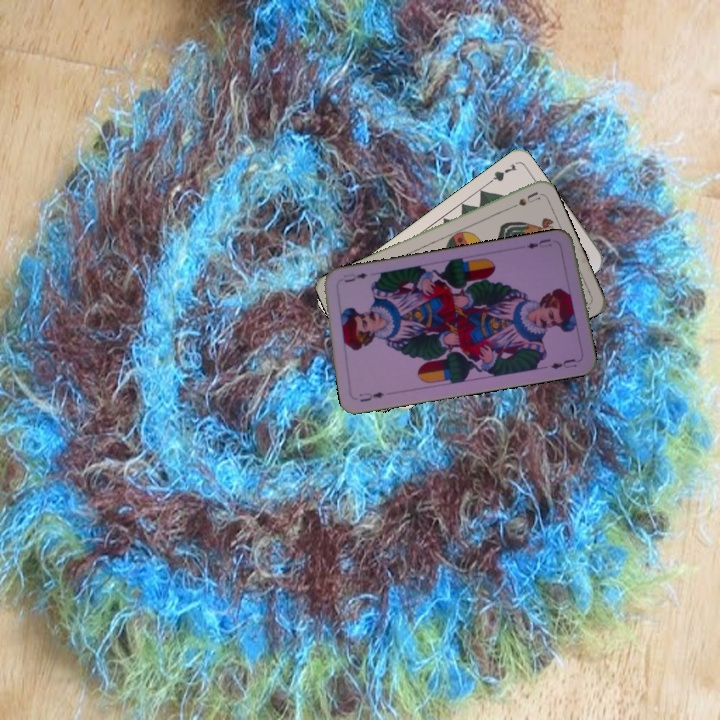EU: (355, 388, 387, 405), (523, 234, 553, 251)
G7: (482, 159, 520, 188)
SU: (502, 187, 542, 213)
